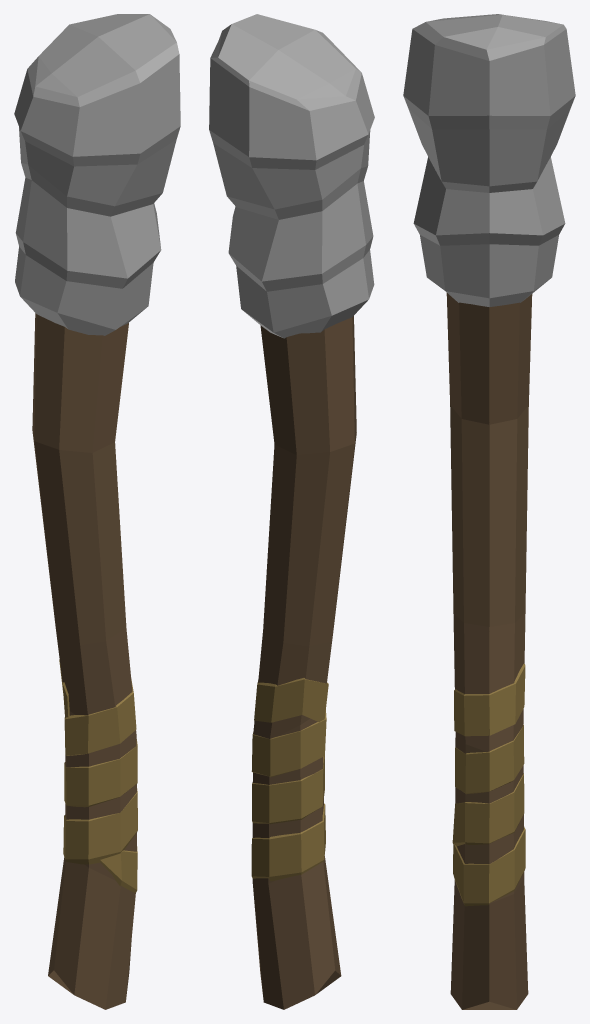
File: WoodenTorch.glb
3 renders of one model, left to right at view 1: azimuth 30°, elevation 25°; view 2: azimuth 150°, elevation 25°; view 3: azimuth 270°, elevation 25°, orthographic. The views are drawn at different scales.
Parts seen in each view (by area): view 1: WoodenTorch; view 2: WoodenTorch; view 3: WoodenTorch.
Part boxes in pixels (x1,y1,x2,y2): WoodenTorch: (14, 14, 180, 1009); WoodenTorch: (209, 14, 374, 1009); WoodenTorch: (403, 14, 575, 1009).
Size of the model in its own units: 0.4572 by 2.69 by 0.4188.
